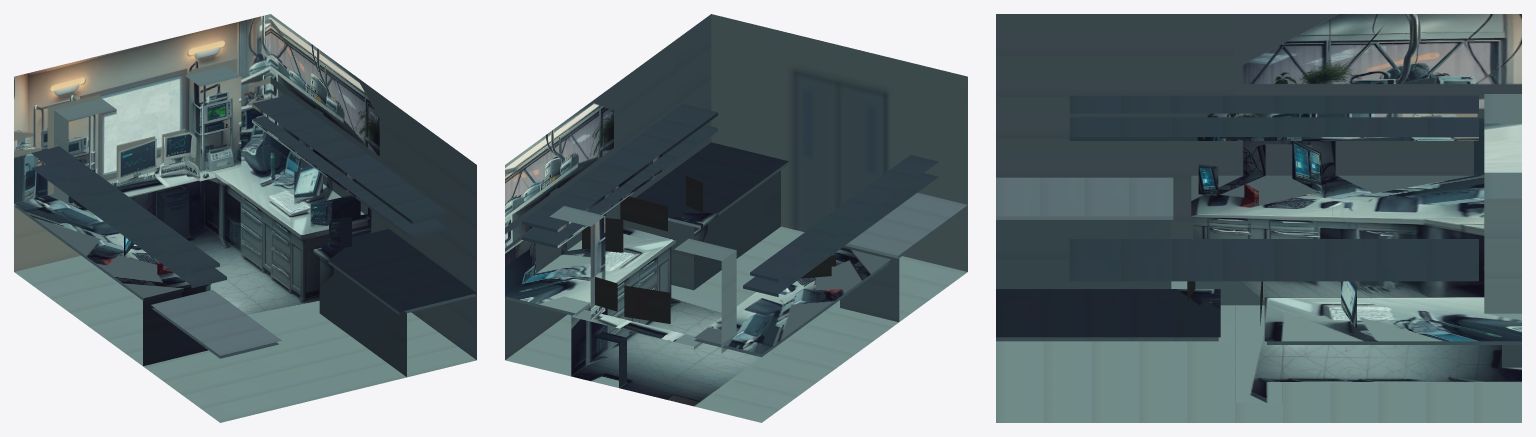
File: lab-3d.glb
3 renders of one model, left to right at view 1: azimuth 30°, elevation 25°; view 2: azimuth 150°, elevation 25°; view 3: azimuth 270°, elevation 25°, orthographic. The views are drawn at different scales.
Parts seen in each view (by area): view 1: Lab; view 2: Lab; view 3: Lab.
Boxes of the visible parts, box(x1,y1,x2,y2) form: Lab: box(14, 14, 476, 422); Lab: box(505, 14, 967, 422); Lab: box(996, 14, 1521, 422).
Size of the model in its own units: 3.6 by 2.62 by 5.01.
Materials: 1 (1 with a texture image).
